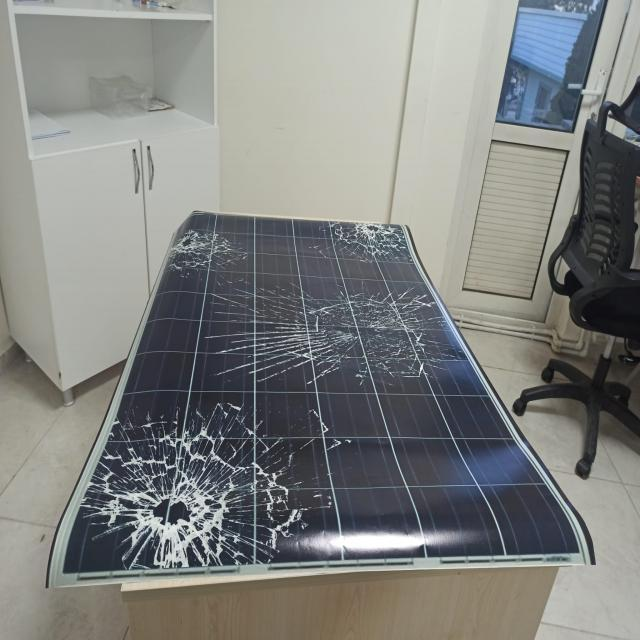faulty: (45, 210, 598, 590)
